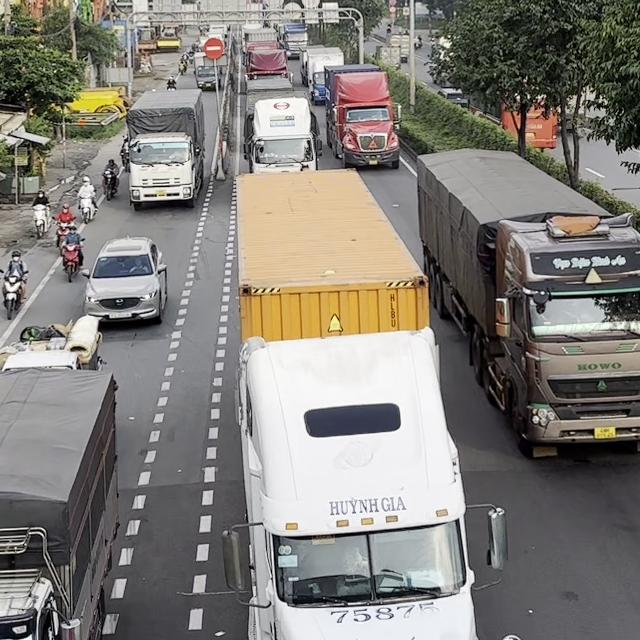car: (79, 234, 168, 325)
motorcycle: (0, 268, 27, 320), (59, 237, 85, 282), (31, 203, 51, 239), (77, 192, 97, 224), (101, 167, 119, 201), (54, 218, 72, 247), (119, 147, 129, 171), (166, 75, 177, 91), (178, 60, 187, 75)
truck: (220, 167, 510, 640), (415, 146, 639, 458), (0, 365, 121, 639), (125, 88, 207, 210), (323, 63, 402, 169), (244, 96, 321, 174), (0, 314, 103, 372), (244, 40, 293, 91), (306, 46, 343, 104), (193, 51, 224, 90), (276, 23, 308, 59)
